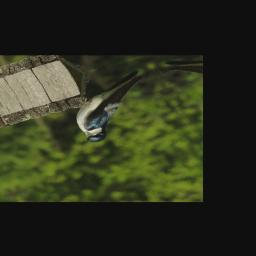Swallow: (56, 69, 174, 145)
